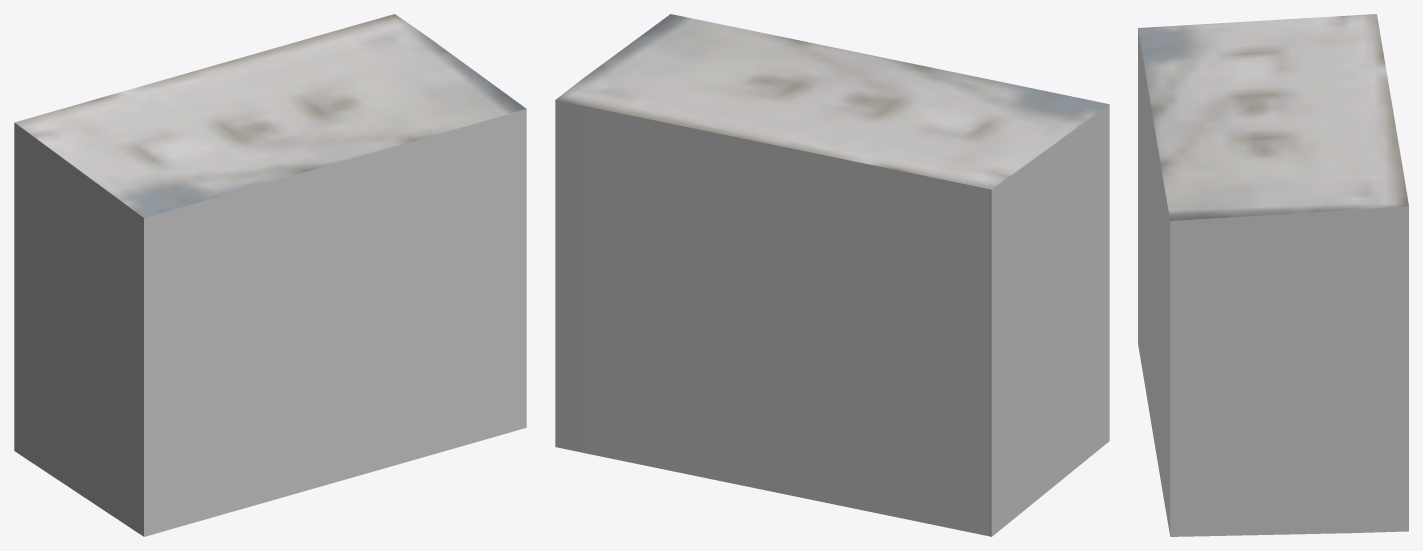
Rendered from DEBW_0010007Tx9x.gltf.
3 renders of one model, left to right at view 1: azimuth 30°, elevation 25°; view 2: azimuth 150°, elevation 25°; view 3: azimuth 270°, elevation 25°, orthographic. The views are drawn at different scales.
Parts seen in each view (by area): view 1: Z_UP; view 2: Z_UP; view 3: Z_UP.
Part boxes in pixels (box(x1,y1,x2,y2)): Z_UP: box(14, 14, 526, 536); Z_UP: box(555, 14, 1109, 536); Z_UP: box(1138, 14, 1408, 536).
Bounding box in the file's own units: 9.26 × 7.12 × 5.37.
Materials: 2 (1 with a texture image).
